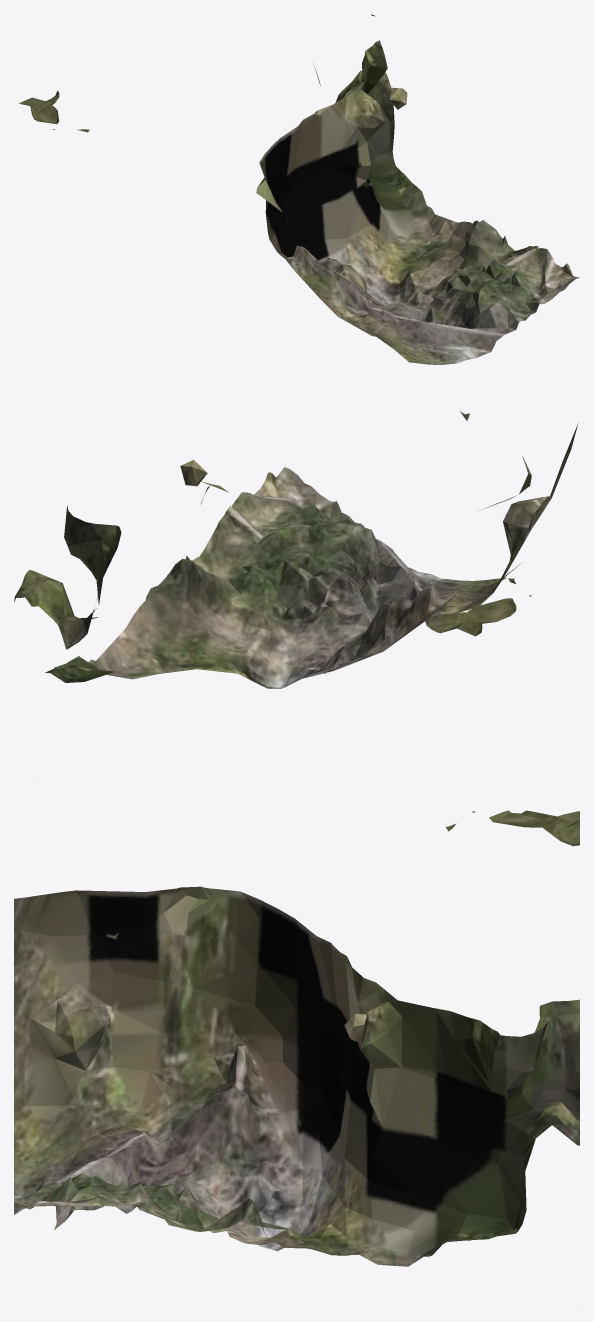
3 views of the same model, one above another, from view 1: azimuth 30°, elevation 25°; view 2: azimuth 150°, elevation 25°; view 3: azimuth 270°, elevation 25° (orthographic). The views are drawn at different scales.
Size of the model in its own units: 23.6 by 12.37 by 23.6.
Materials: 2 (2 with a texture image).
